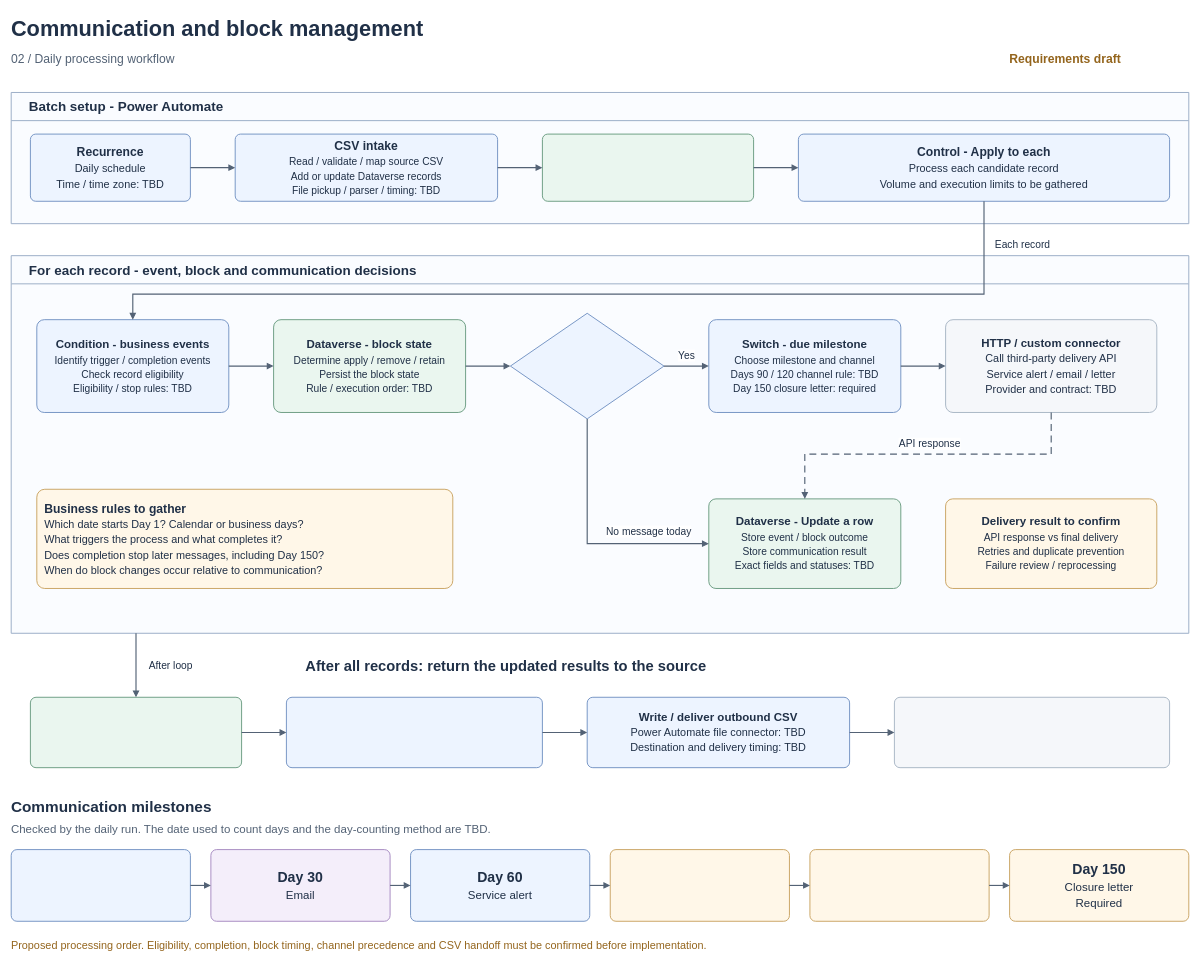
This 1201x964 diagram has some shape labels left out. Each missing label, with the centre of its shape:
"Communication eligible and due?" goes at [587,366].
"Data Operations Select > Create CSV table CSV columns and version: TBD" goes at [414,732].
"Dataverse - List rows Load candidate records Filter / pagination: TBD" goes at [648,167].
"Dataverse - List rows Read block state and outcomes Export scope: TBD" goes at [136,732].
"Day 1 Service alert" goes at [100,885].
"Day 120 Email or letter Channel rule: TBD" goes at [899,885].
"Day 90 Email or letter Channel rule: TBD" goes at [699,885].
"Source system Receives block state and outcomes Return via CSV is proposed" goes at [1032,732].
